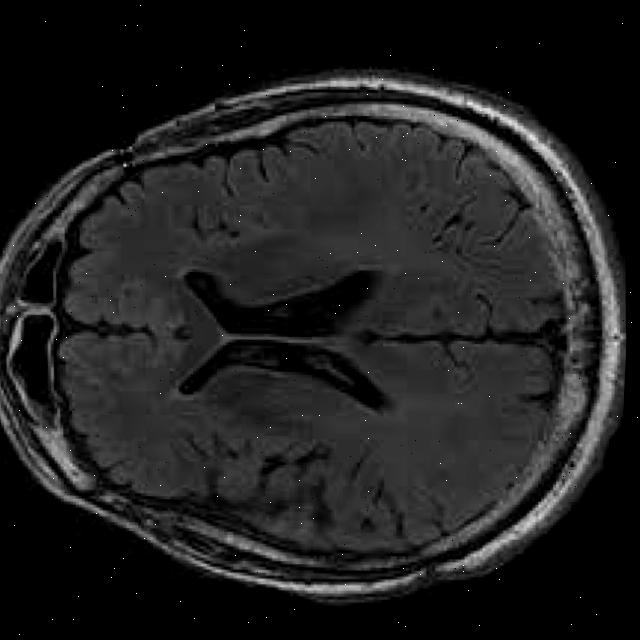NoTumor: (0, 39, 638, 636)
